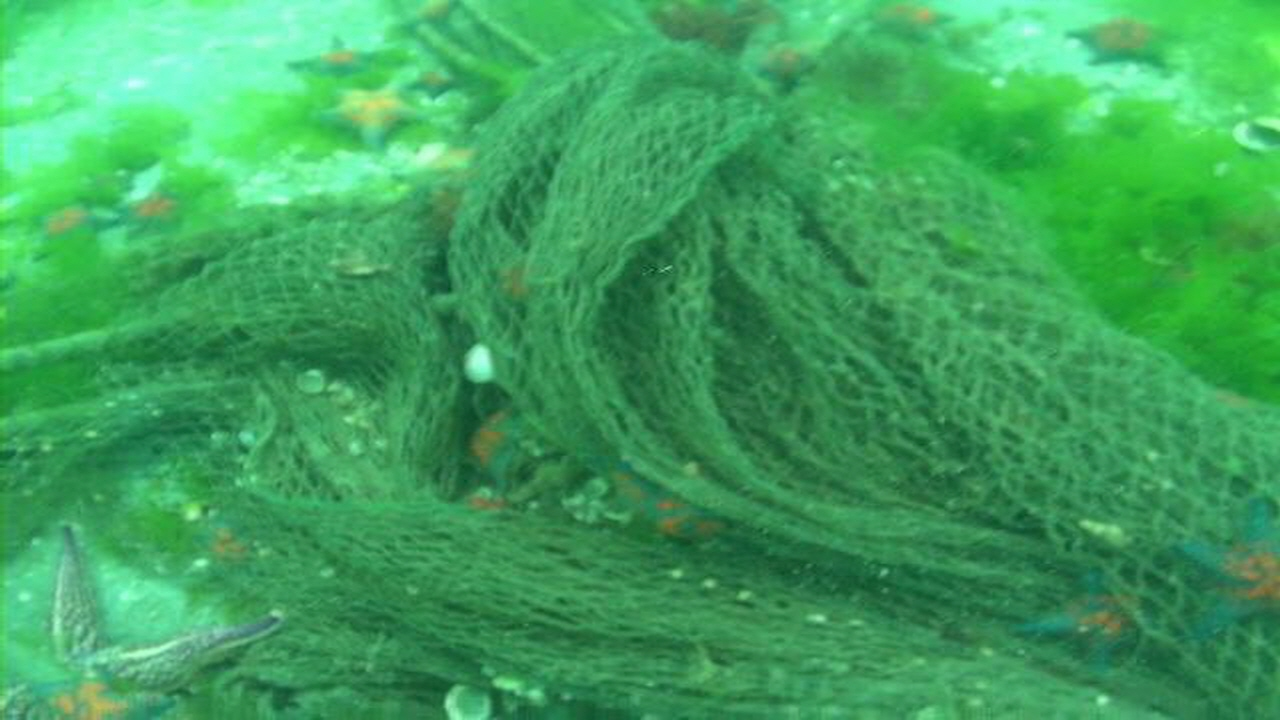fish net: (91, 34, 1280, 720)
